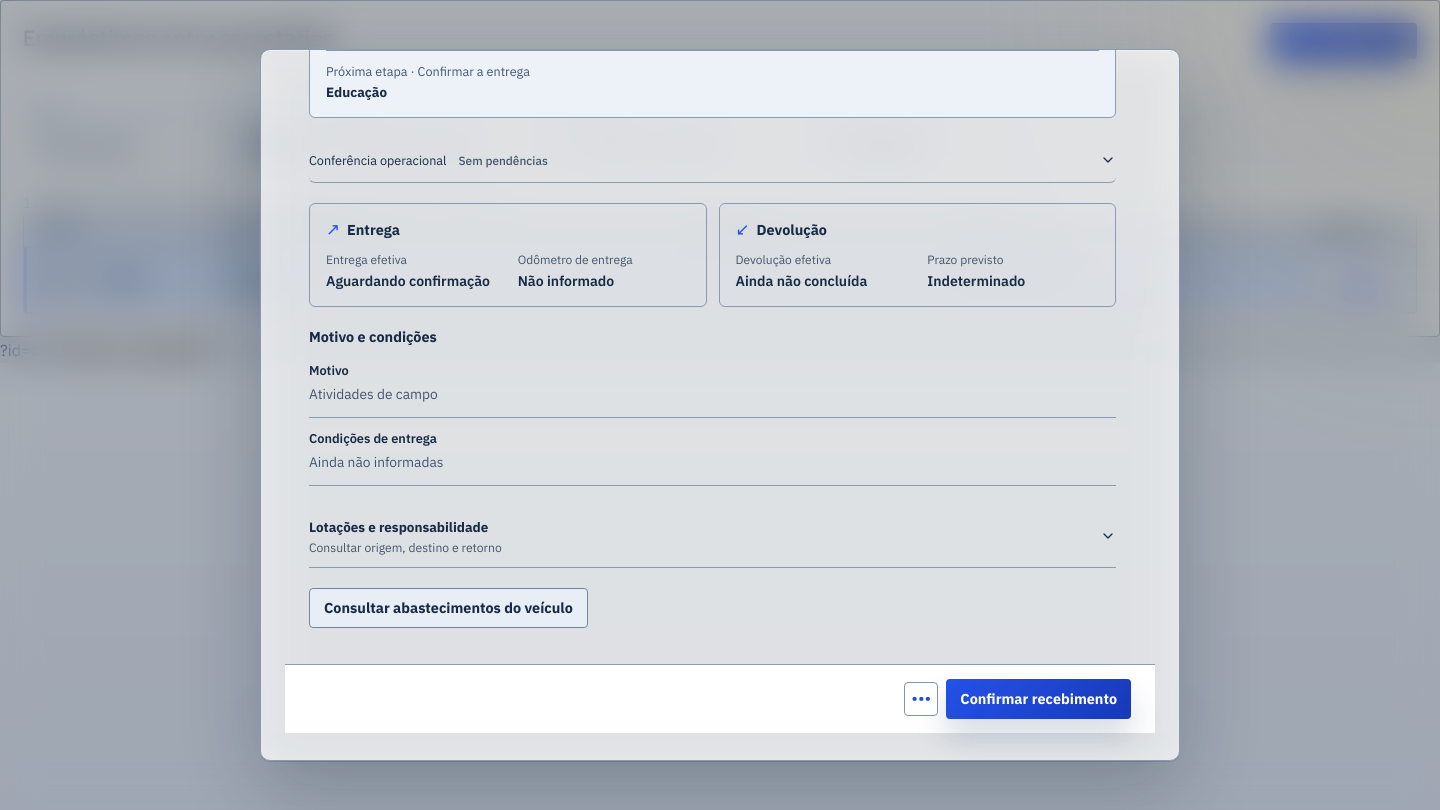
it: Produção da recebedora vê recebimento no rodapé e rejeição em mais ações
(page scrolled)
Expected: the button "Confirmar recebimento" is enabled, [946,679,1131,719]
Expected: the footer "Confirmar recebimento" is shown, [285,664,1155,733]
What coordinates should you click on to do the following:
click the button named "Mais ações do empréstimo de ABC1234"
I would click on:
 (921, 699)
Its box is [904,682,938,716].
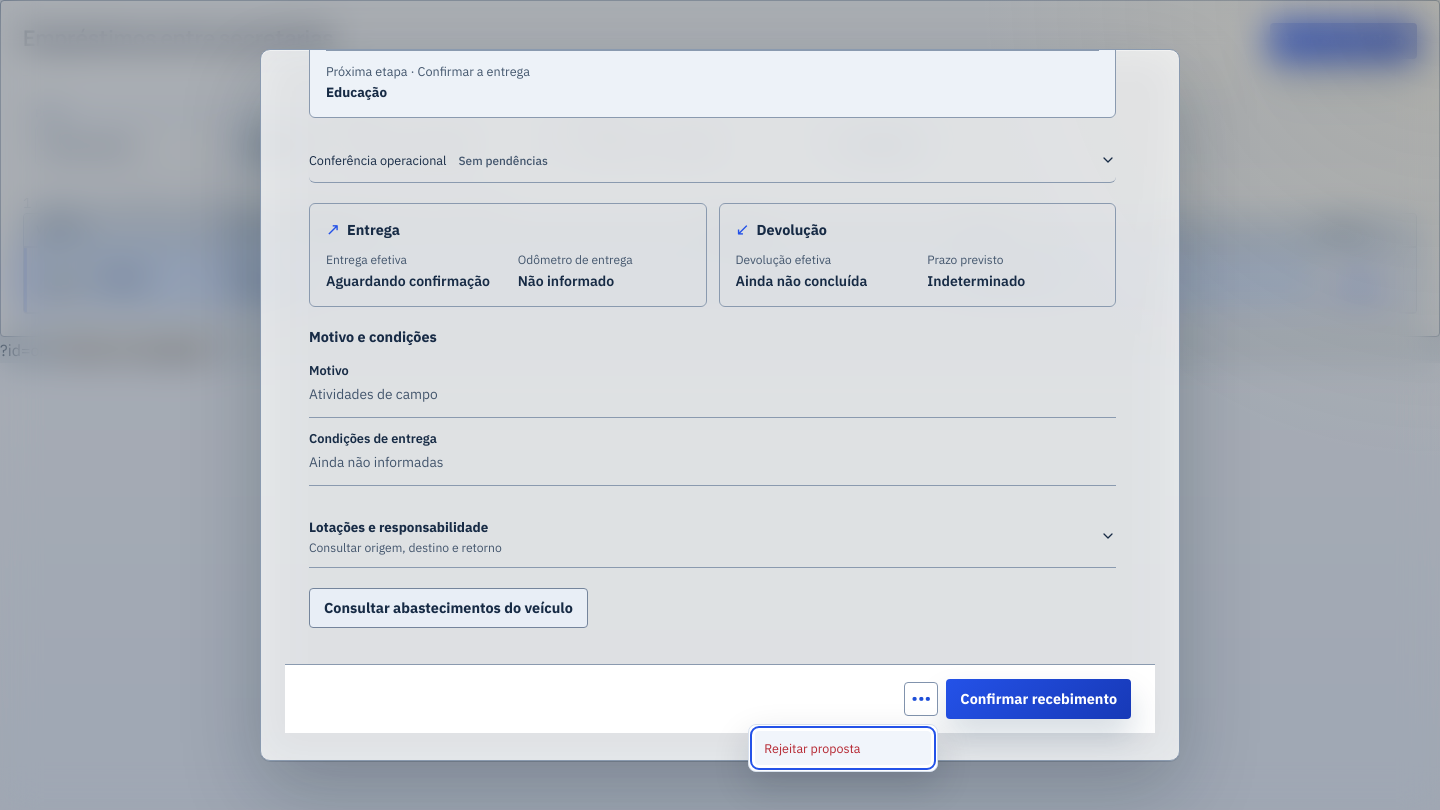
Expected: the menu item "Rejeitar proposta" is enabled, [755,731,931,765]
